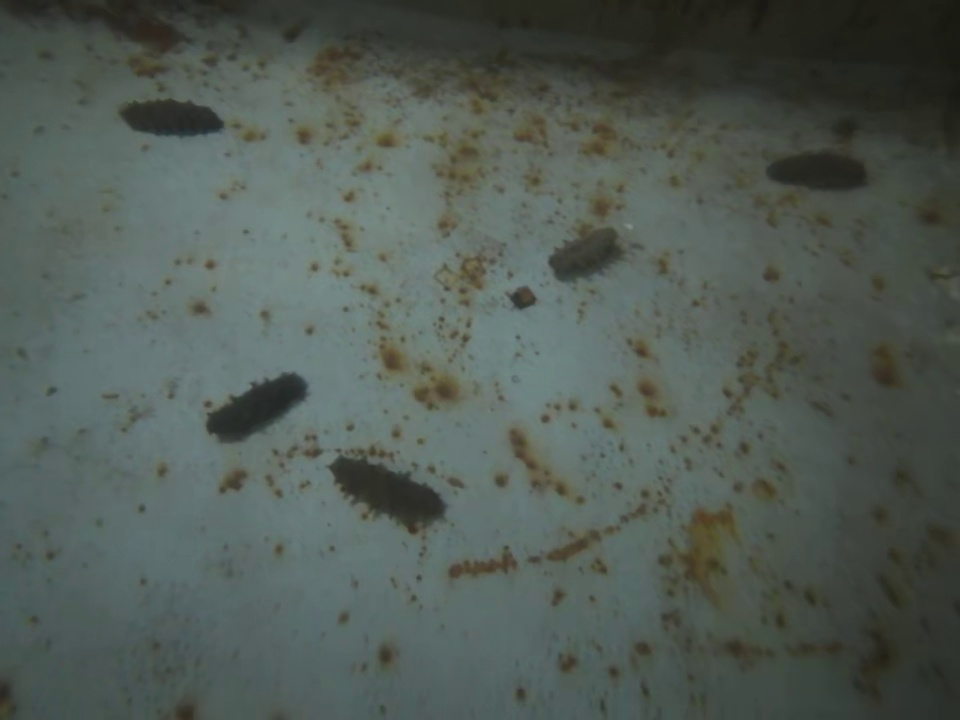seacucumber: (327, 451, 447, 524), (202, 369, 313, 444), (763, 150, 877, 193), (116, 97, 227, 141), (548, 221, 621, 284)
